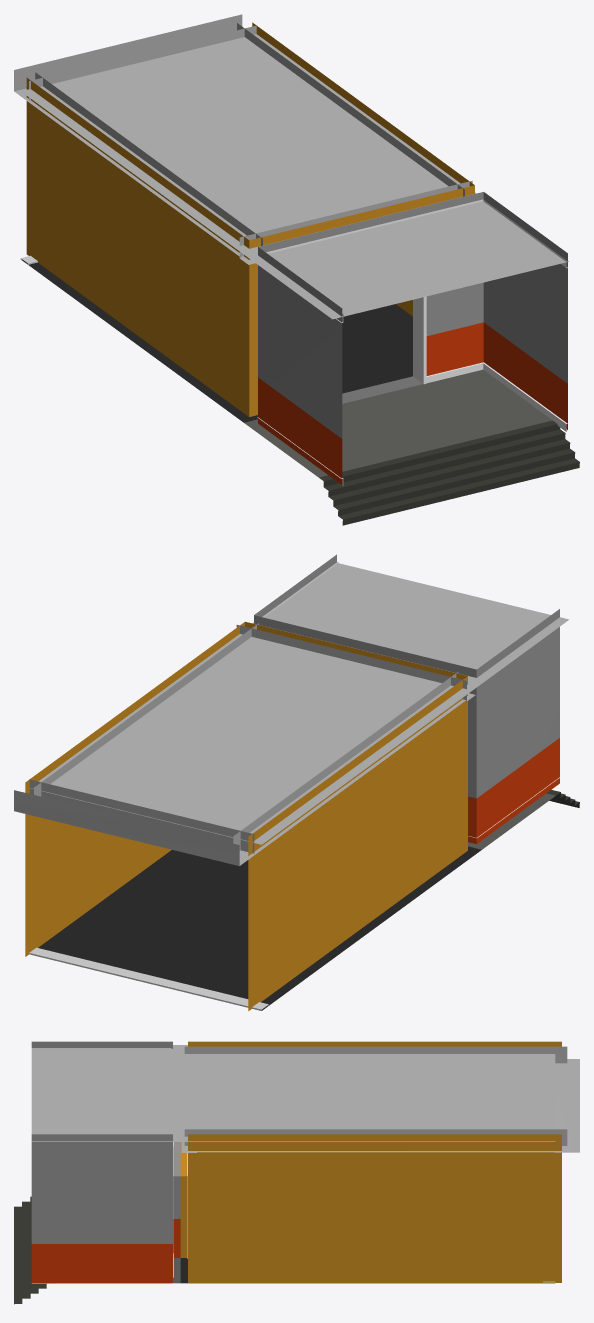
The model's file is SM_H_Building_Tide_Loungehall_15_ATLAS.fbx.
The picture shows the model from 3 angles, top to bottom: view 1: azimuth 30°, elevation 25°; view 2: azimuth 150°, elevation 25°; view 3: azimuth 270°, elevation 25°; orthographic projection. The views are drawn at different scales.
Parts seen in each view (by area): view 1: SM_H_Building_Tide_Loungehall_15_ATLAS; view 2: SM_H_Building_Tide_Loungehall_15_ATLAS; view 3: SM_H_Building_Tide_Loungehall_15_ATLAS.
Part boxes in pixels (<box>): SM_H_Building_Tide_Loungehall_15_ATLAS: <box>14,14,579,525</box>; SM_H_Building_Tide_Loungehall_15_ATLAS: <box>14,554,579,1011</box>; SM_H_Building_Tide_Loungehall_15_ATLAS: <box>14,1041,579,1304</box>.
Size of the model in its own units: 659 by 1607 by 545.
